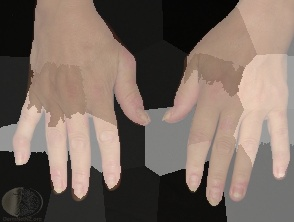Nail_psoriasis: (100, 169, 123, 194), (204, 183, 226, 208), (132, 101, 151, 128), (160, 102, 181, 126), (185, 171, 204, 196), (230, 180, 249, 202), (50, 176, 66, 197), (71, 182, 87, 202), (13, 147, 27, 167), (275, 163, 288, 182)
